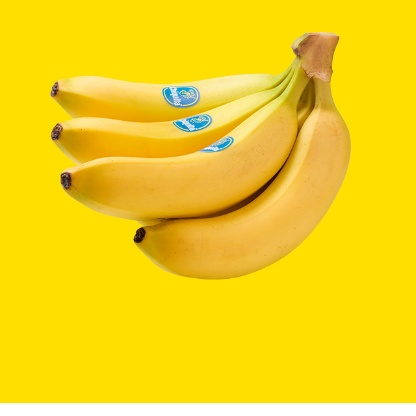chuoi: (45, 35, 360, 293)
